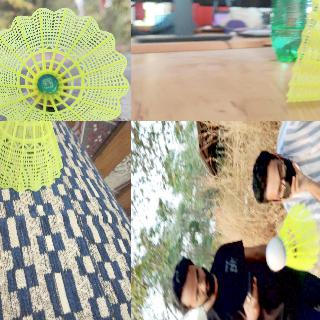shuttlecock: (0, 6, 129, 120), (0, 121, 64, 193), (264, 203, 319, 274), (285, 0, 319, 102)
